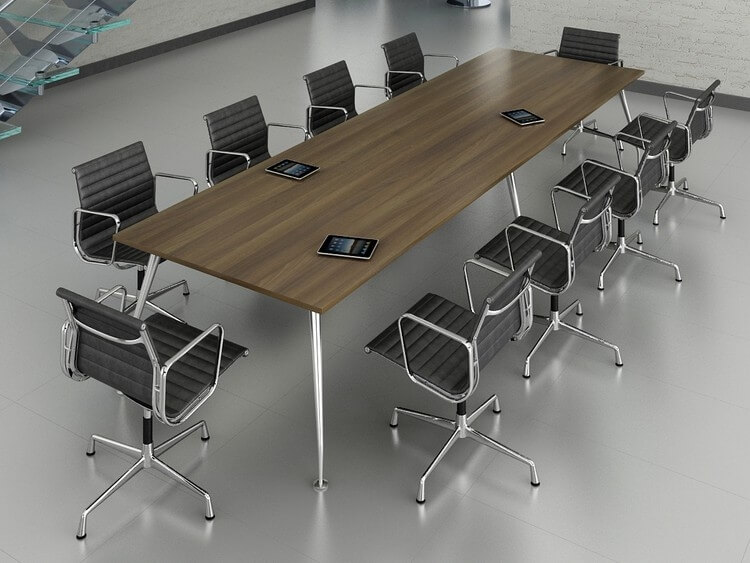conference_table: (115, 48, 645, 494)
